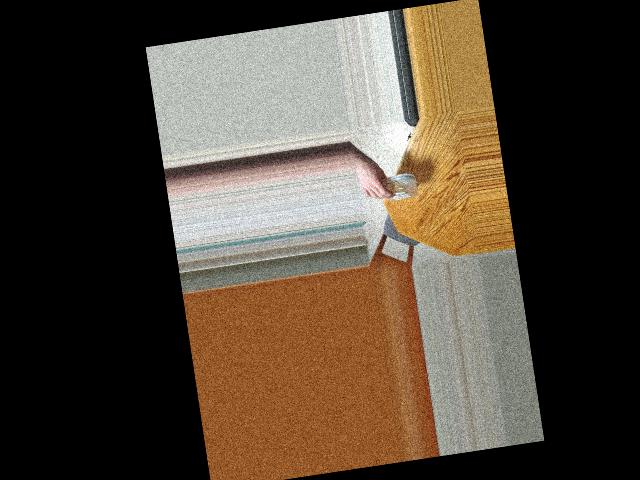cheese: (372, 162, 423, 209)
